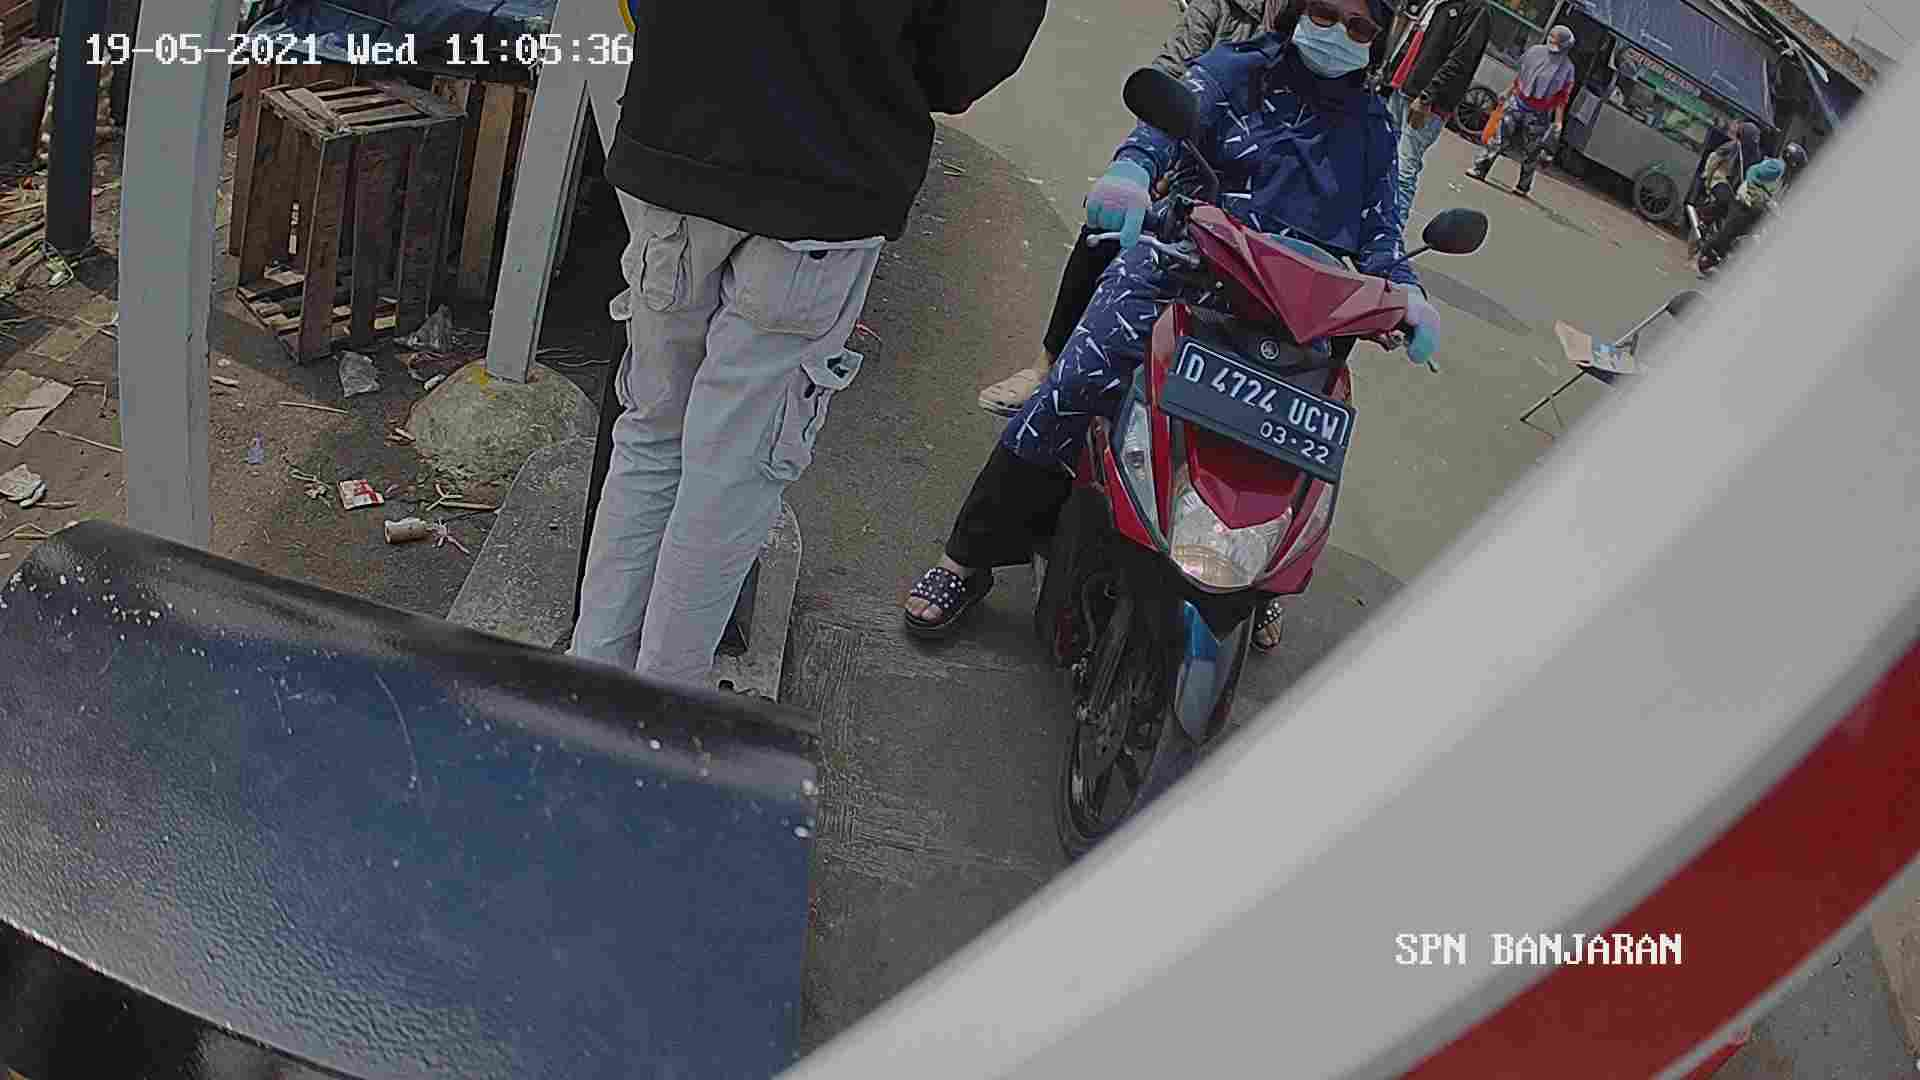motor: (1048, 160, 1369, 840)
